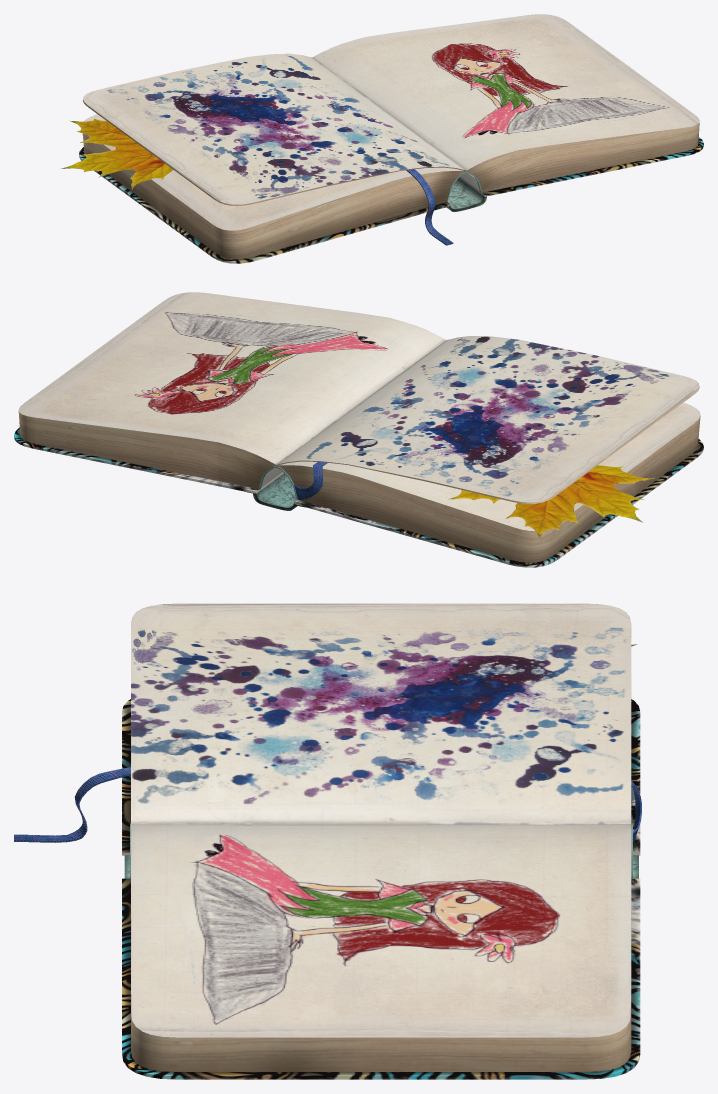
The model's file is sketchbook_sadchild.fbx.
3 views of the same model, one above another, from view 1: azimuth 30°, elevation 25°; view 2: azimuth 150°, elevation 25°; view 3: azimuth 270°, elevation 25° (orthographic). The views are drawn at different scales.
Parts seen in each view (by area): view 1: sketchbook, sketchbook_leaf, sketchbook_backface; view 2: sketchbook, sketchbook_leaf, sketchbook_backface; view 3: sketchbook, sketchbook_backface.
Part boxes in pixels (<box>): sketchbook: <box>79,14,703,263</box>; sketchbook_leaf: <box>60,118,173,189</box>; sketchbook_backface: <box>406,169,486,245</box>; sketchbook: <box>14,292,703,567</box>; sketchbook_leaf: <box>448,465,656,537</box>; sketchbook_backface: <box>245,462,327,510</box>; sketchbook: <box>122,603,640,1079</box>; sketchbook_backface: <box>14,767,641,878</box>.
Bounding box in the file's own units: 46.11 × 4.55 × 30.38.
